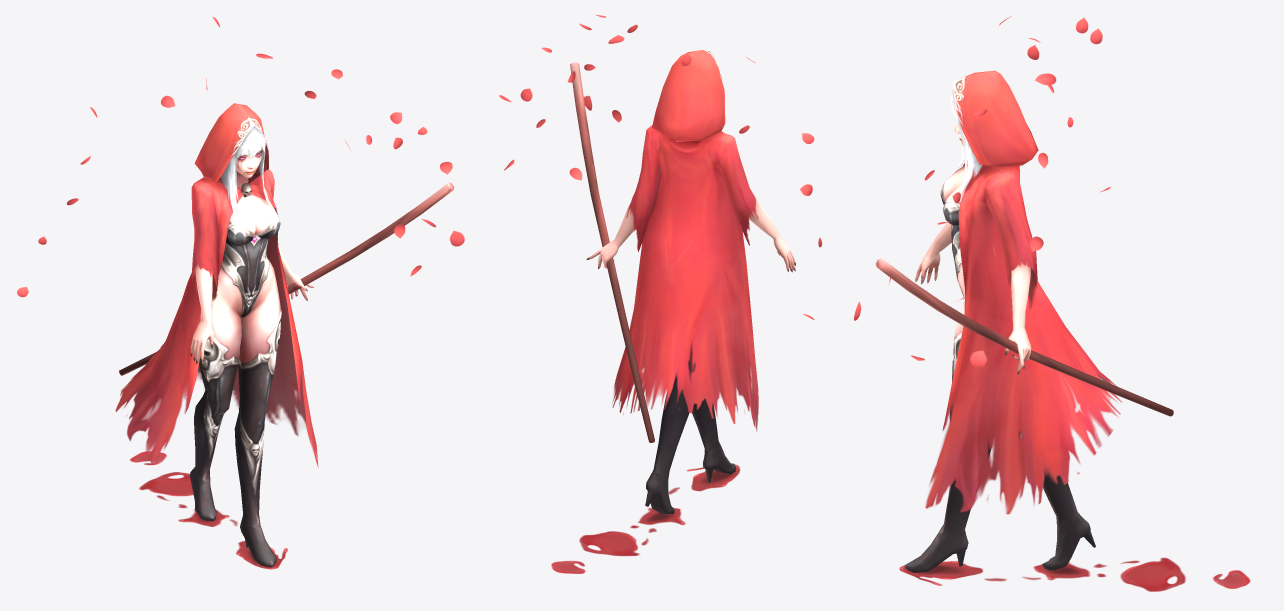
Rendered from sorceress.glb.
3 views of the same model, side by side, from view 1: azimuth 30°, elevation 25°; view 2: azimuth 150°, elevation 25°; view 3: azimuth 270°, elevation 25° (orthographic). The views are drawn at different scales.
Parts seen in each view (by area): view 1: Body, Body.001, Plane, Body.002; view 2: Body.001, Body, Plane; view 3: Body.001, Body, Plane, Body.002.
Part boxes in pixels (x1=…): Body: x1=119, y1=145, x2=454, y2=566; Body.001: x1=115, y1=103, x2=318, y2=467; Plane: x1=17, y1=17, x2=464, y2=569; Body.002: x1=220, y1=125, x2=274, y2=221; Body.001: x1=612, y1=49, x2=758, y2=431; Body: x1=570, y1=62, x2=795, y2=513; Plane: x1=499, y1=14, x2=822, y2=573; Body.001: x1=925, y1=70, x2=1121, y2=514; Body: x1=875, y1=122, x2=1173, y2=572; Plane: x1=854, y1=16, x2=1250, y2=591; Body.002: x1=950, y1=89, x2=982, y2=194.
Bounding box in the file's own units: 3.17 × 3.95 × 2.66.
Materials: 4 (4 with a texture image).
